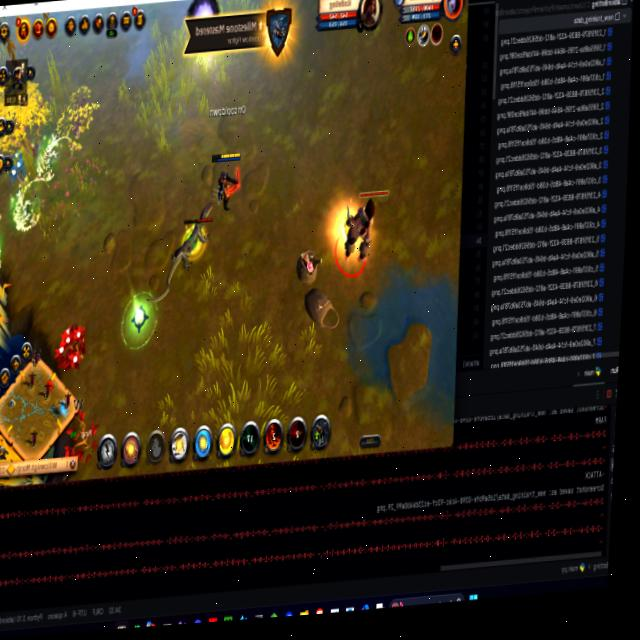hide: (48, 314, 91, 385), (1, 146, 36, 185)
ore: (143, 199, 220, 313), (327, 179, 392, 282)
red: (205, 144, 244, 215)
